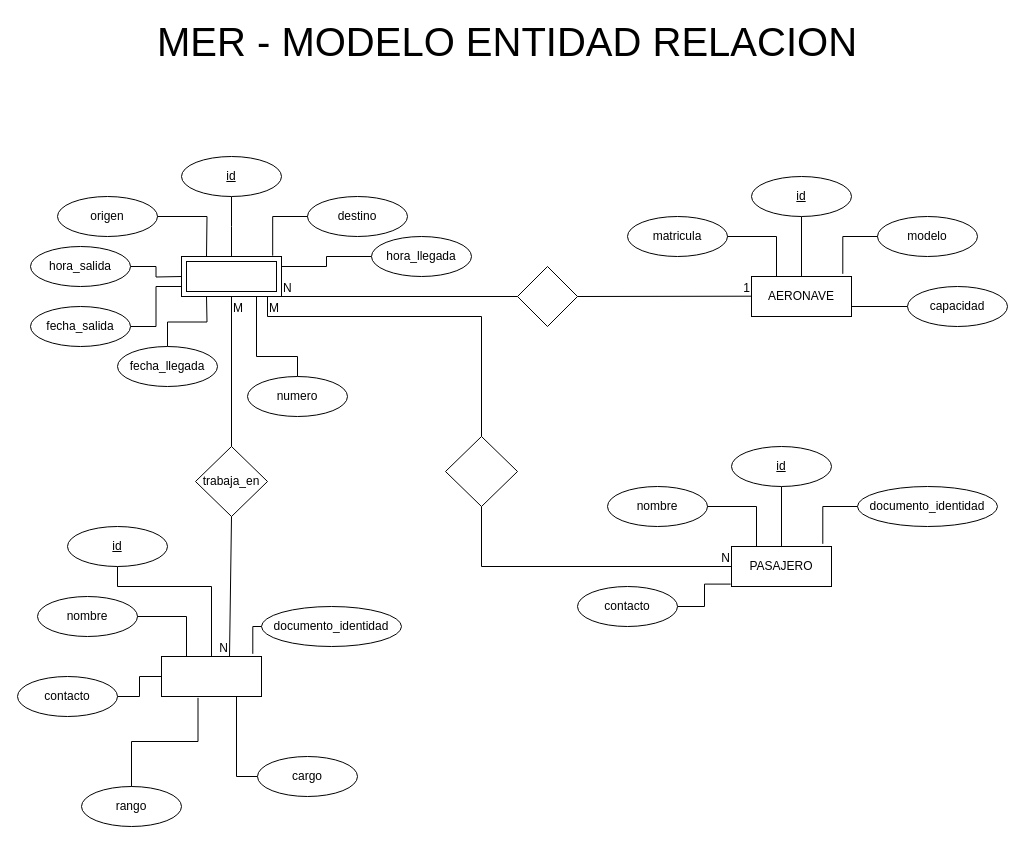
Some shapes in this 1025 by 844 pixel diagram are drawn without their labels. Each missing label, with the box of its shape:
realiza: (516, 266, 578, 326)
reserva: (444, 436, 518, 506)
TRIPULANTE: (160, 656, 262, 696)
VUELO: (180, 256, 282, 296)
